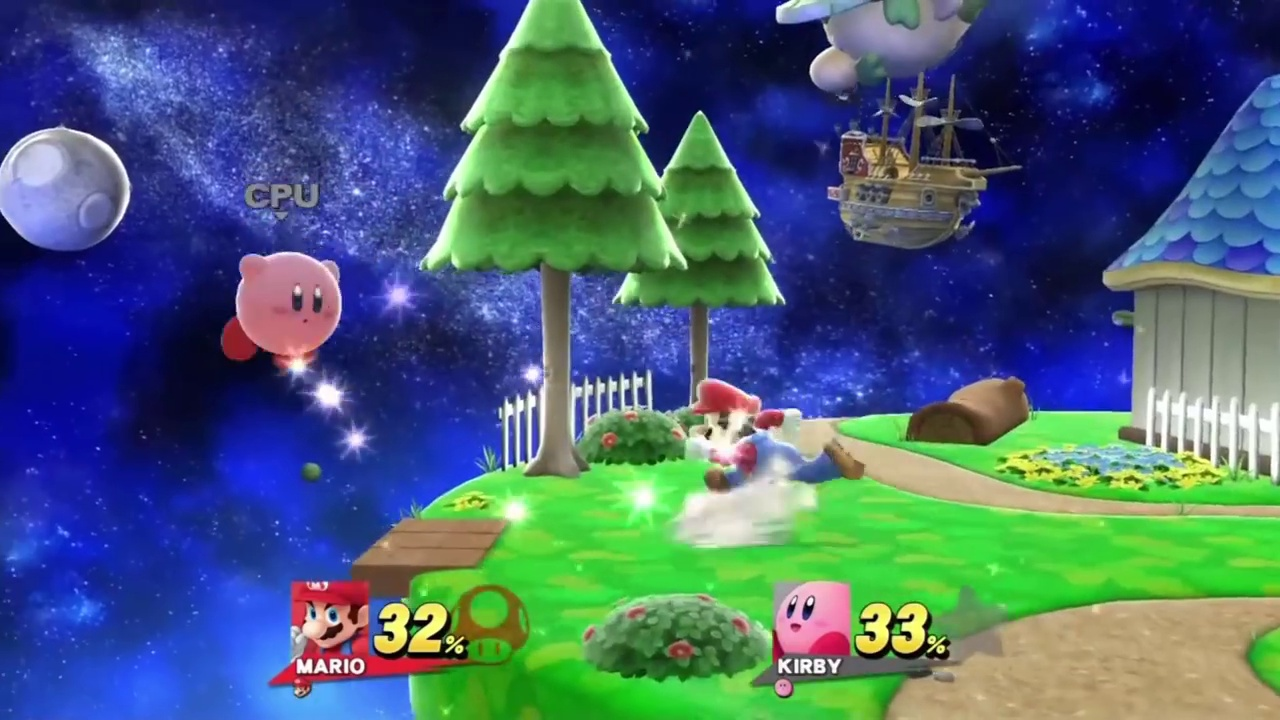Mario: (687, 378, 868, 492)
